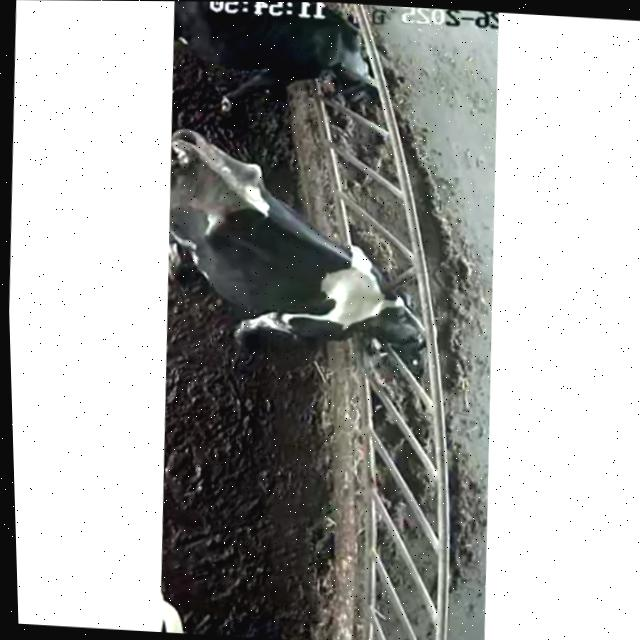eat: (279, 236, 477, 380), (256, 2, 427, 133)
